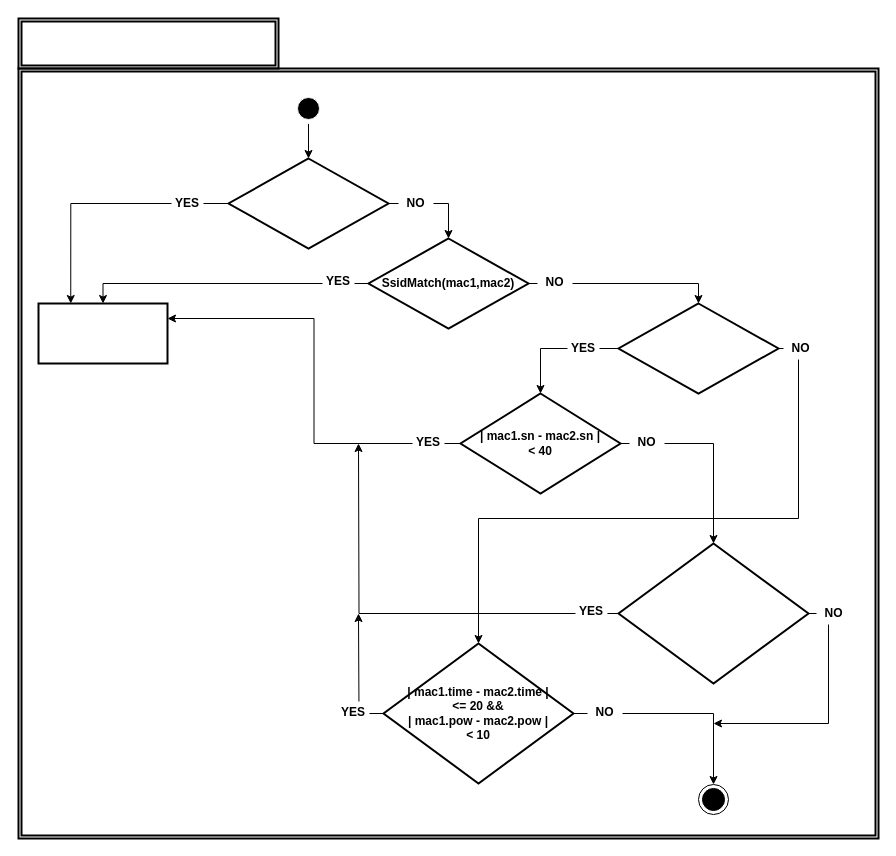
Image size: 896x856. Some labels were removed from this diagram. The shapes that lost their labels are listed below. From the top down, each one's centre as x and y in pixels, then its label:
At point 148,43: "Compara(mac1,mac2)".
At point 308,203: "mac1.uuid == mac2.uuid".
At point 102,333: "Aggrega(mac1,mac2)".
At point 698,348: "mac1.sn > 25 && mac2.sn > 25".
At point 713,613: "| mac1.sn - mac2.sn | < 60 && | mac1.pow - mac2.pow | < 10".
